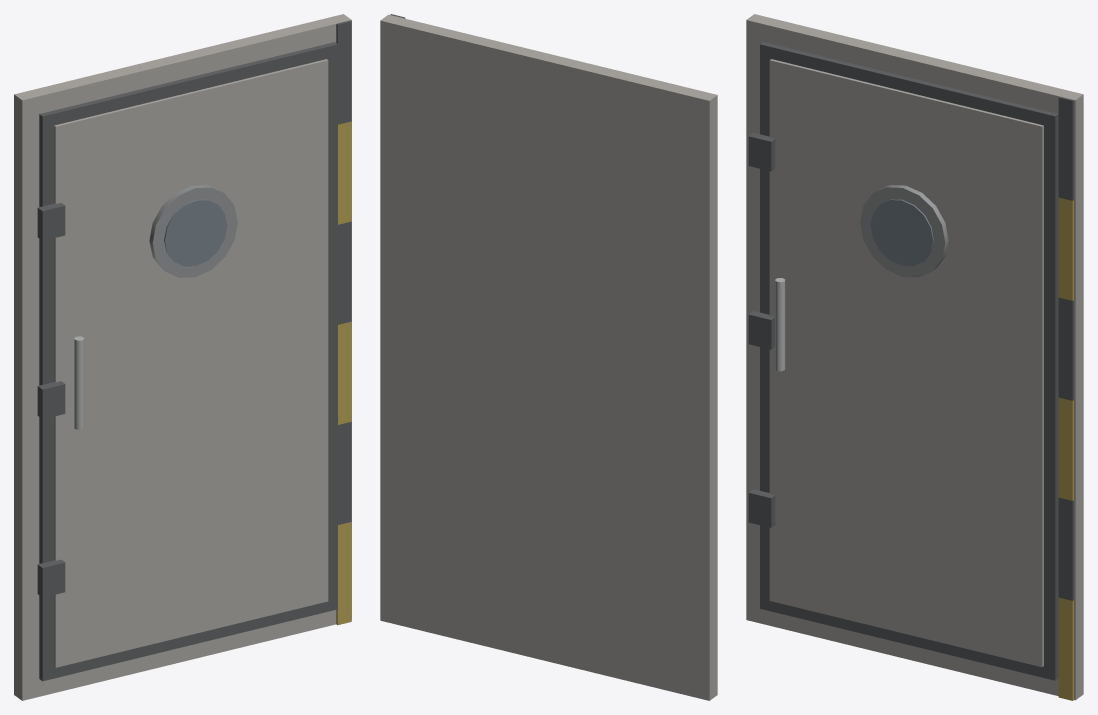
The model's file is hab_door.glb.
The picture shows the model from 3 angles, left to right: view 1: azimuth 30°, elevation 25°; view 2: azimuth 150°, elevation 25°; view 3: azimuth 330°, elevation 25°; orthographic projection.
Visible parts, largest first — view 1: hab_door; view 2: hab_door; view 3: hab_door.
Part boxes in pixels (bbox=[...]): hab_door: bbox=[14, 14, 351, 700]; hab_door: bbox=[380, 14, 717, 700]; hab_door: bbox=[746, 14, 1083, 700].
Size of the model in its own units: 1.16 by 2.02 by 0.136.
